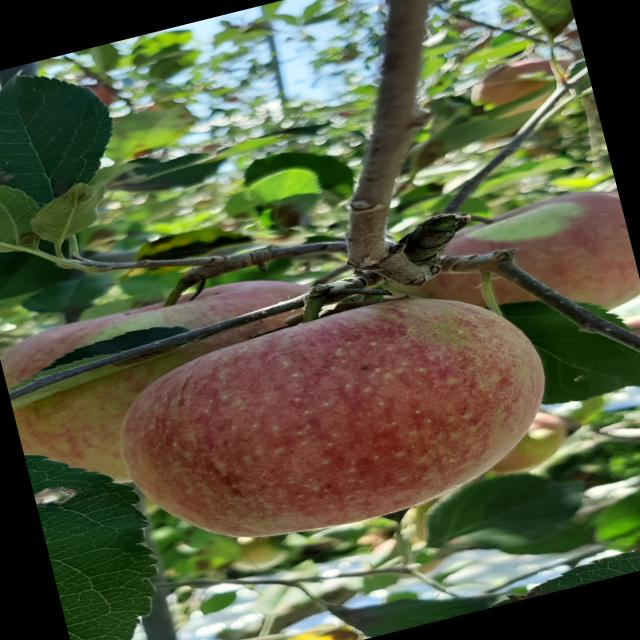fresh: (95, 259, 584, 579)
